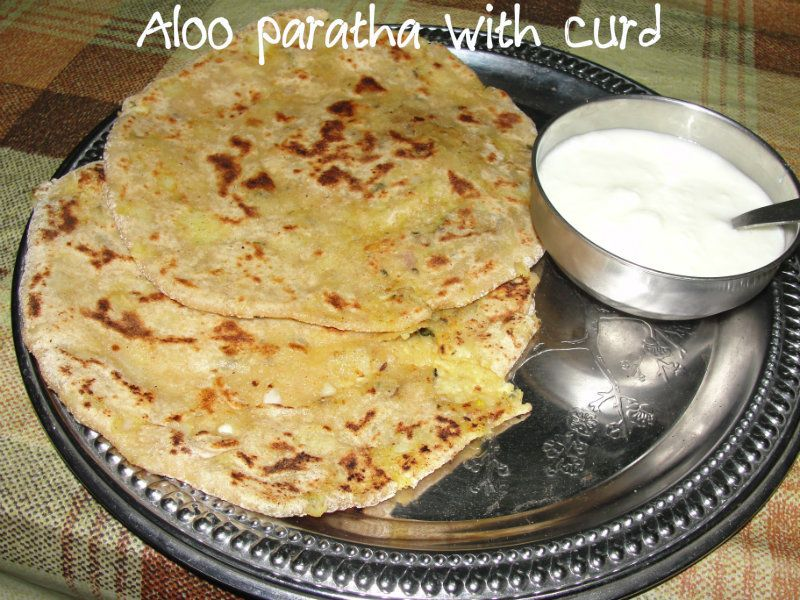aloo_paratha: (21, 6, 552, 521)
